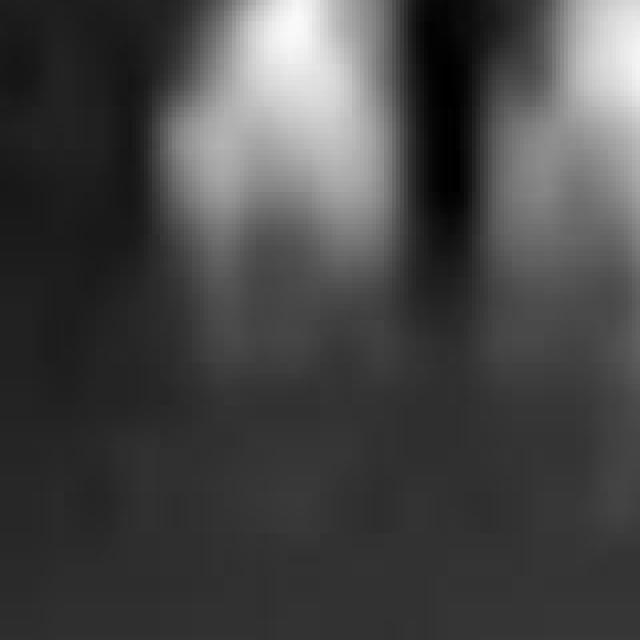person: (169, 1, 405, 348), (473, 1, 640, 433)
